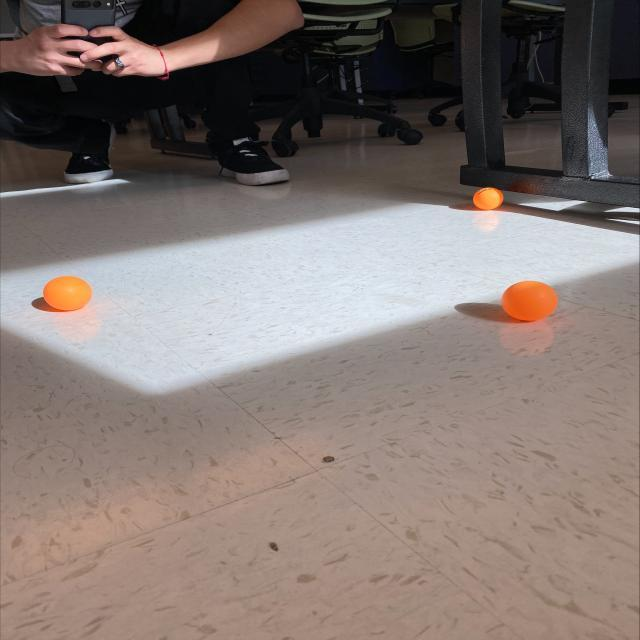ping-pong-ball: (498, 278, 560, 322), (41, 274, 95, 312), (471, 186, 504, 210)
